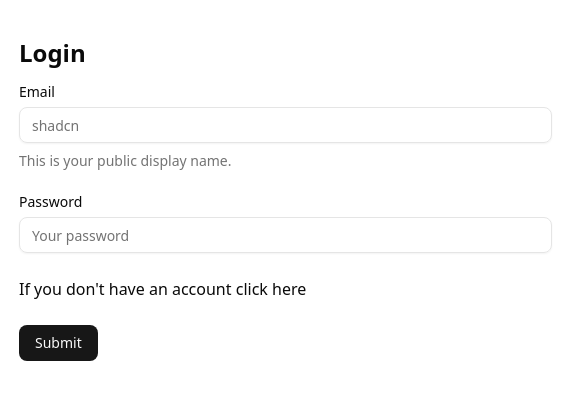
Login Page › should show validation errors on empty submit
Step 1. Click the button with test id "login-submit" → (59, 343), box [19,325,98,361]
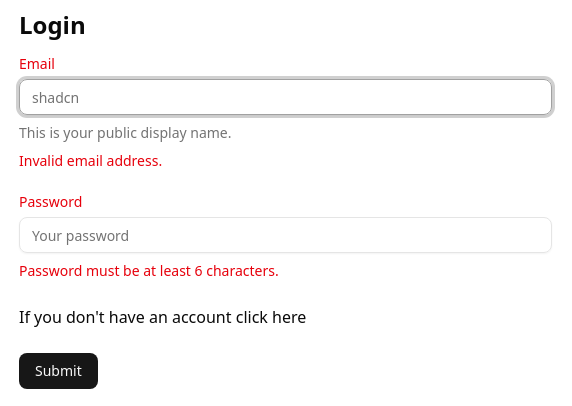
Result: the text "Invalid email address" is shown at [19,151,162,170]
Result: the text "Password must be at least 6 characters" is shown at [19,261,279,280]
